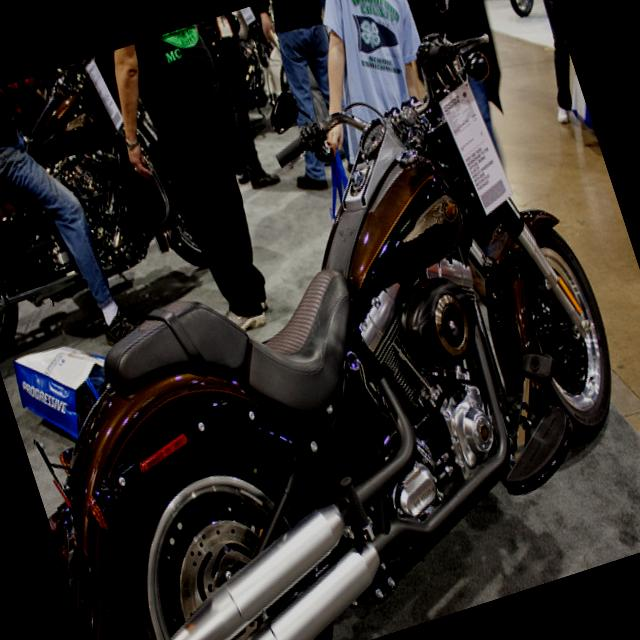Vehicle: (0, 8, 640, 640), (0, 43, 217, 367), (225, 28, 300, 128), (486, 0, 555, 22)
